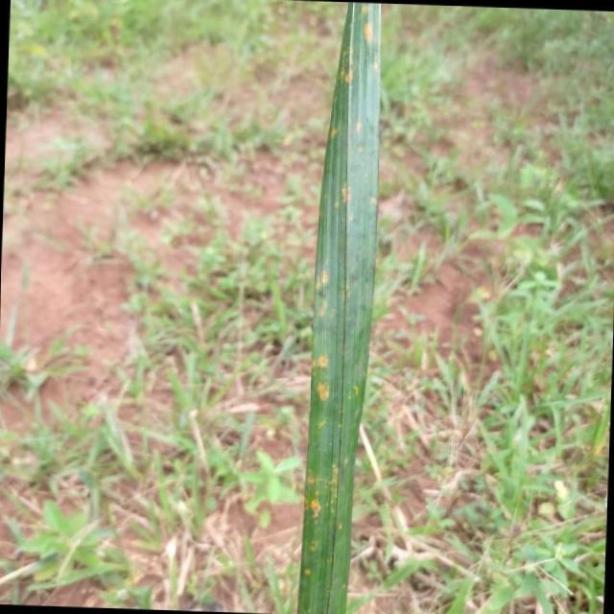Kalium: (302, 0, 384, 614)
